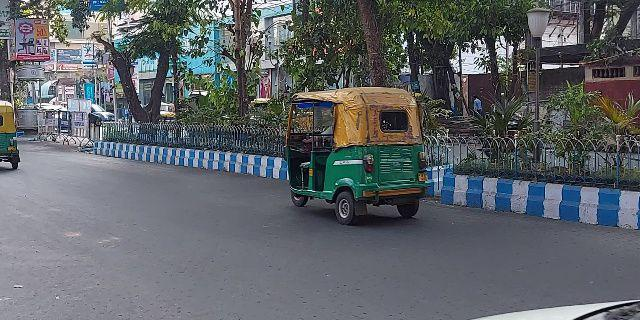Autorickshaw: (280, 84, 428, 229), (1, 102, 23, 174)
